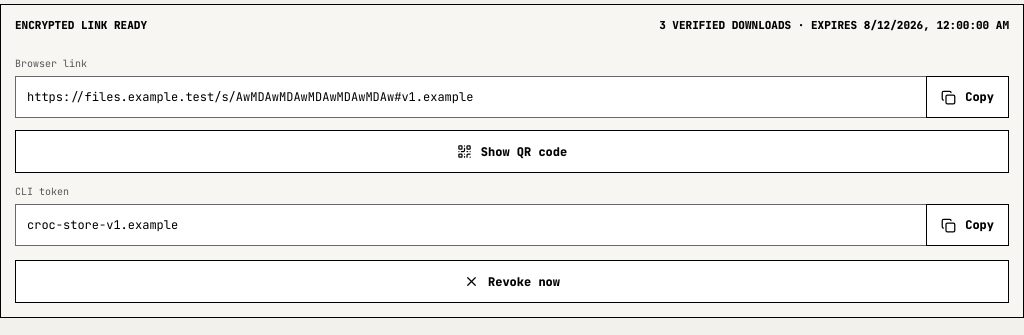
Test: stored share copy feedback › shows a copy failure
This screenshot has width=1024, height=335.
Click the 2nd button "Copy" at (968, 225), box [926,204,1009,246]
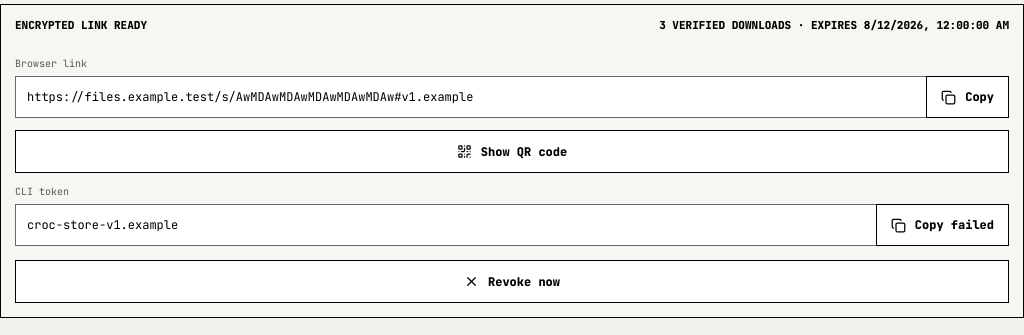
Expected: the button "Copy failed" is shown, [876,204,1009,246]
